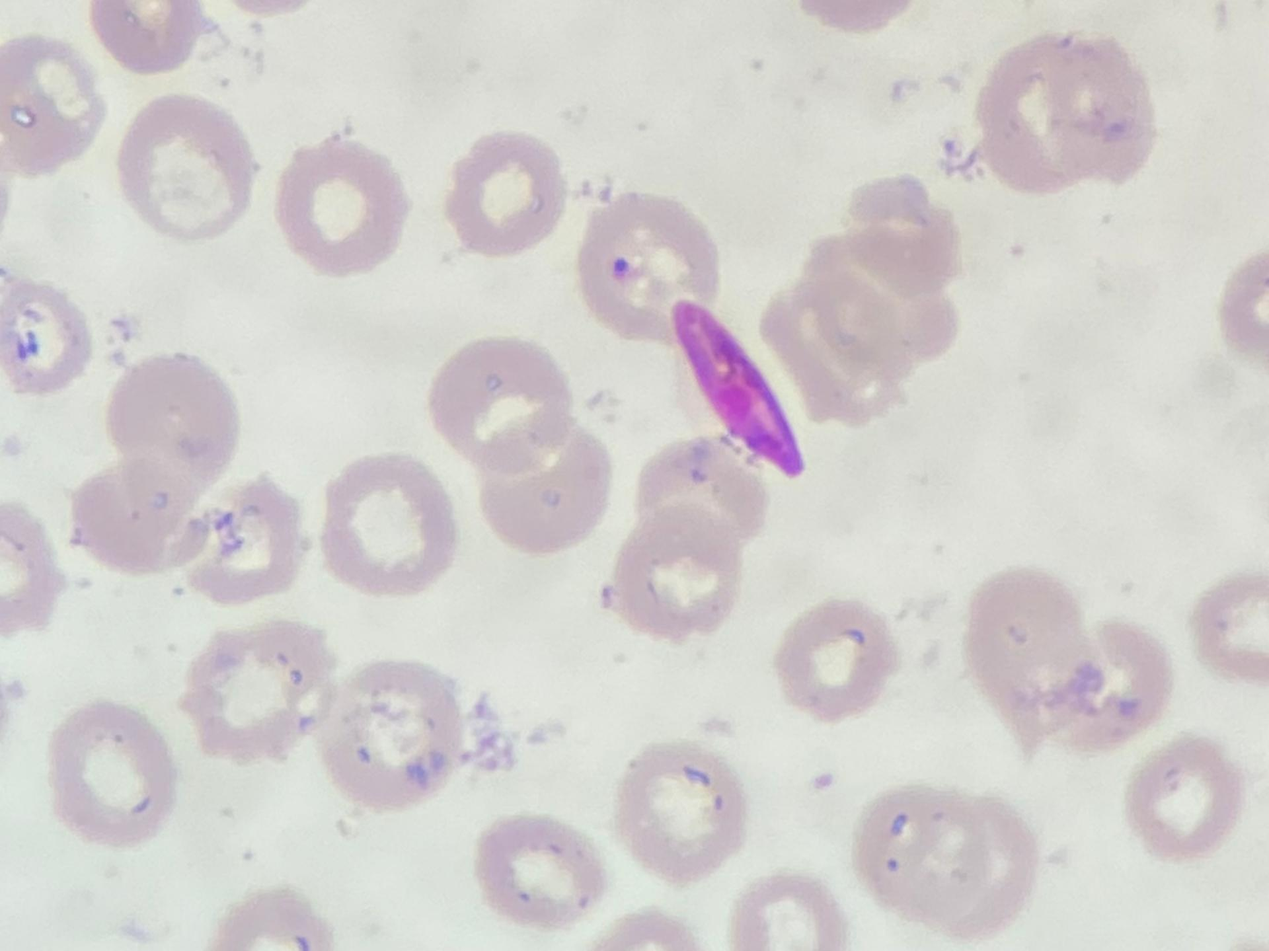Infected: (663, 296, 808, 487)
Uninfected: (962, 562, 1093, 757), (319, 658, 468, 811), (181, 621, 336, 767), (428, 337, 579, 478), (605, 500, 754, 642), (579, 192, 717, 343), (978, 38, 1110, 191), (320, 453, 461, 595), (112, 93, 252, 234), (851, 783, 991, 921), (46, 701, 178, 847), (615, 743, 748, 885), (111, 352, 238, 497), (473, 426, 611, 556), (71, 458, 211, 580), (278, 141, 408, 271), (178, 475, 307, 604), (1052, 621, 1174, 755), (632, 437, 769, 552), (445, 132, 570, 255), (474, 814, 606, 929), (775, 599, 900, 720), (0, 38, 107, 179), (930, 797, 1034, 936), (1125, 740, 1241, 858), (0, 285, 95, 391), (728, 873, 847, 950), (1190, 570, 1267, 687), (93, 0, 204, 73)
